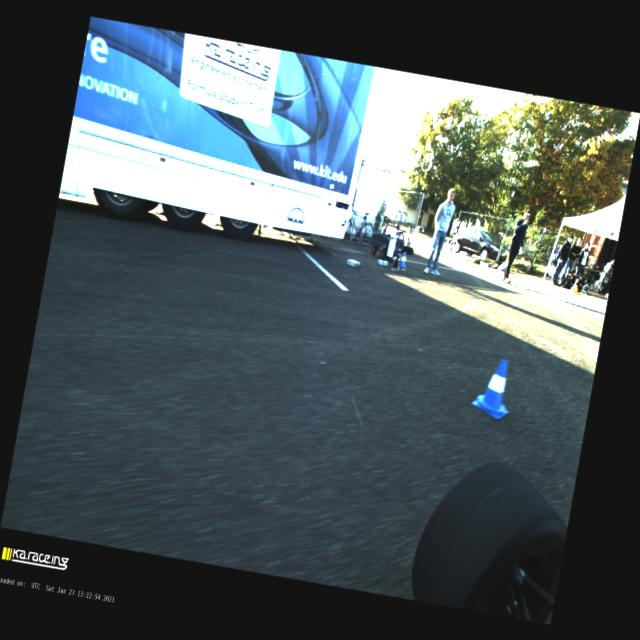blue_cone: (468, 354, 518, 421), (399, 250, 409, 269)
yellow_cone: (570, 276, 580, 292)
